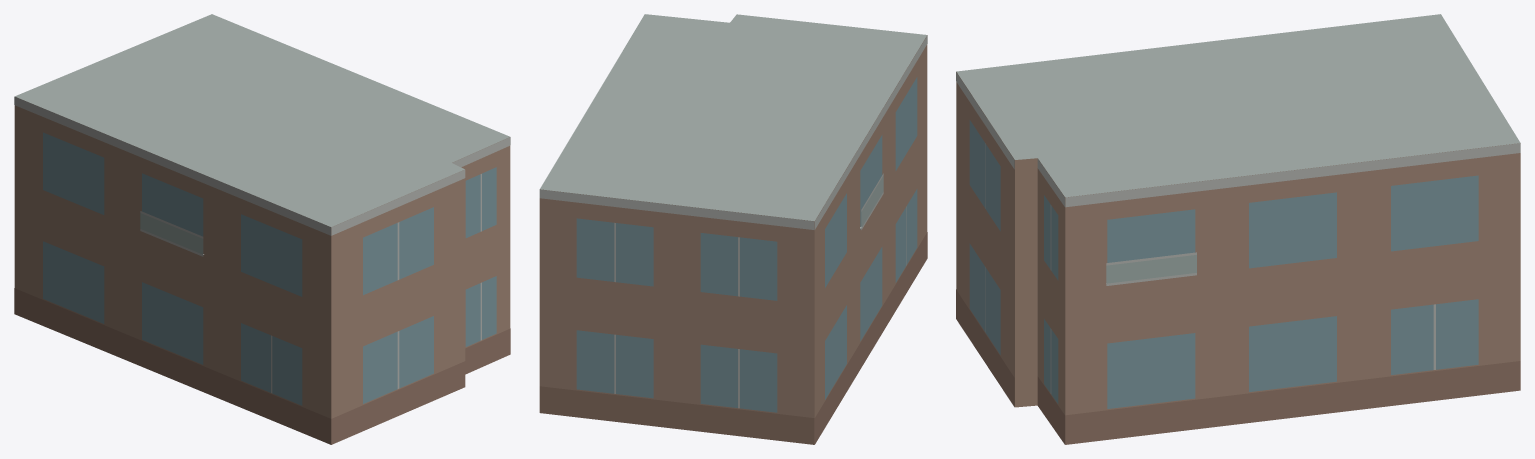
File: survey-upis-32685135.glb
3 renders of one model, left to right at view 1: azimuth 30°, elevation 25°; view 2: azimuth 150°, elevation 25°; view 3: azimuth 270°, elevation 25°, orthographic. The views are drawn at different scales.
Parts seen in each view (by area): view 1: survey-upis-32685135.tmp; view 2: survey-upis-32685135.tmp; view 3: survey-upis-32685135.tmp.
Boxes of the visible parts, x1,y1,x2,y2 form: survey-upis-32685135.tmp: (14, 14, 510, 444); survey-upis-32685135.tmp: (539, 14, 927, 444); survey-upis-32685135.tmp: (956, 14, 1520, 444).
Bounding box in the file's own units: 9.71 × 6.1 × 12.62.
